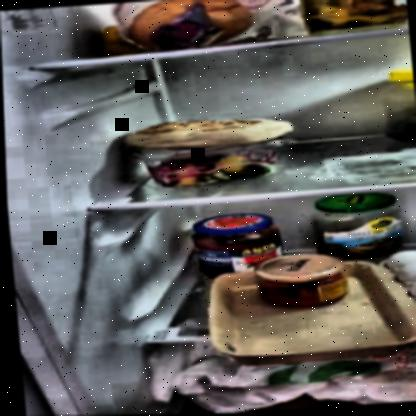eggs: (387, 252, 415, 315)
